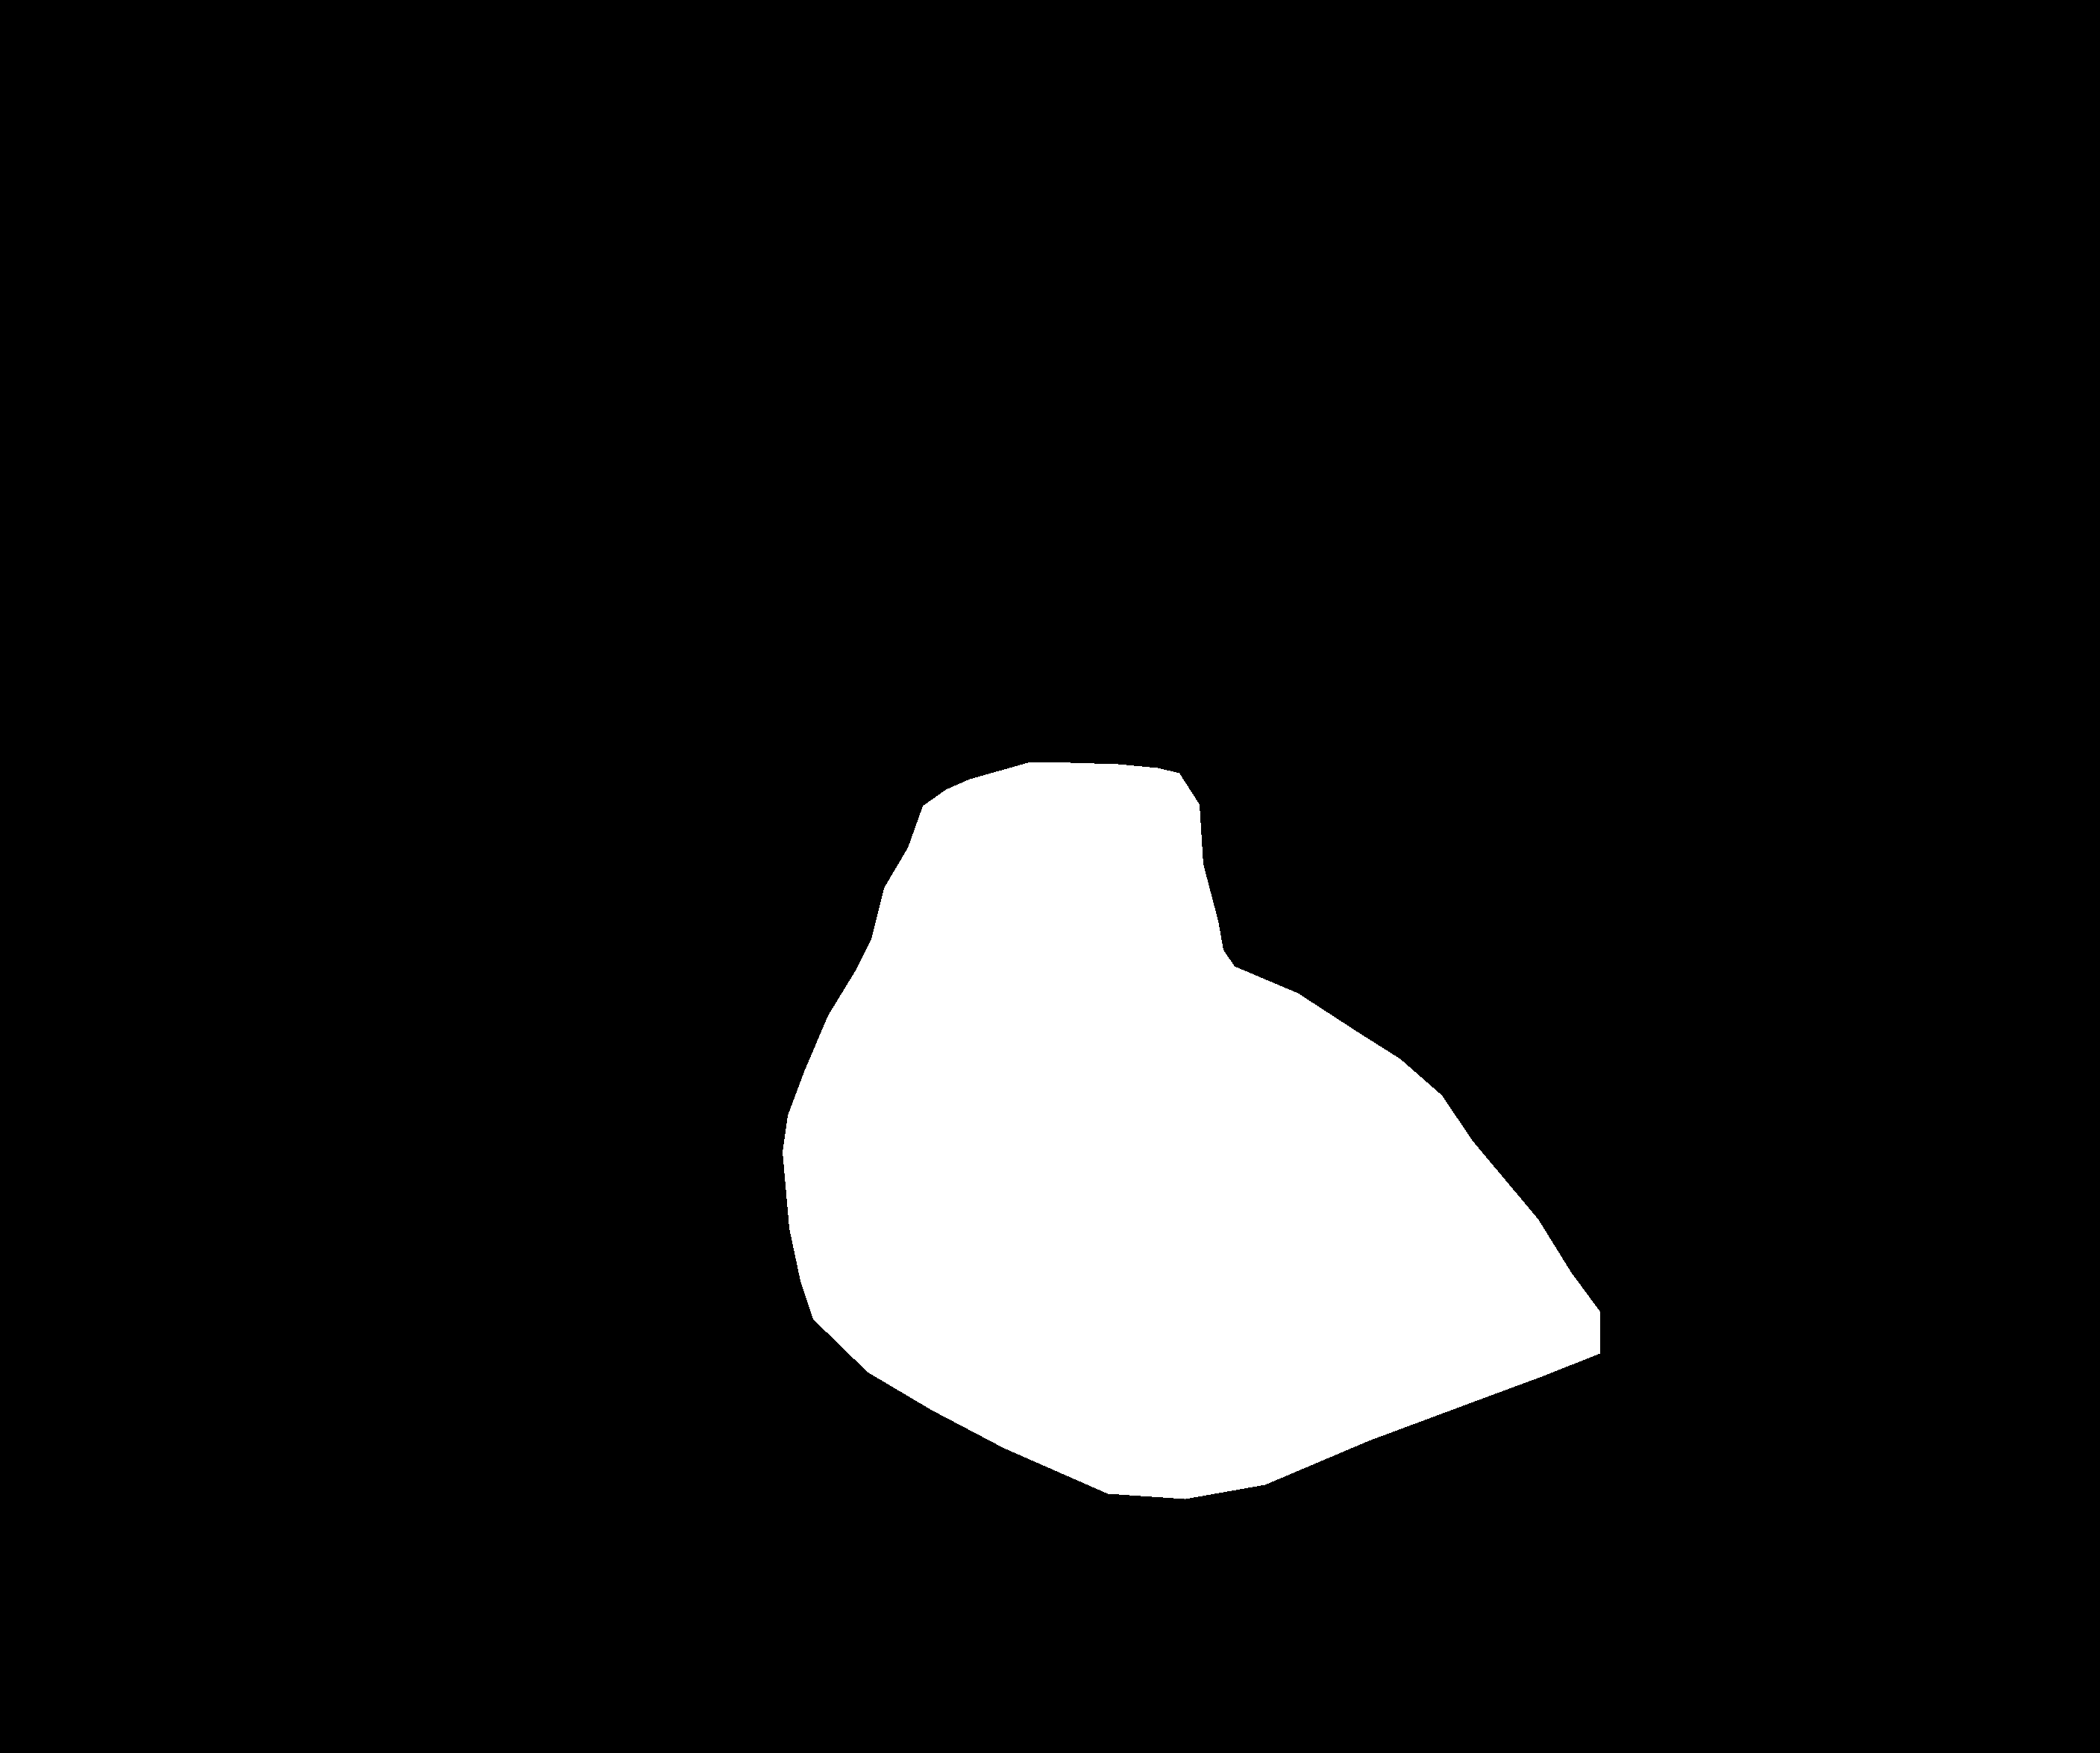heart: (783, 762, 1599, 1498)
left_lung: (333, 209, 968, 1423)
right_lung: (1125, 204, 1856, 1500)
